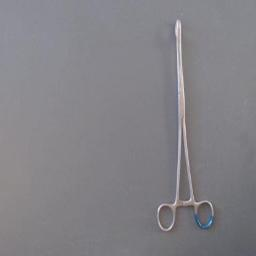Sponge Forceps: (152, 13, 218, 235)
